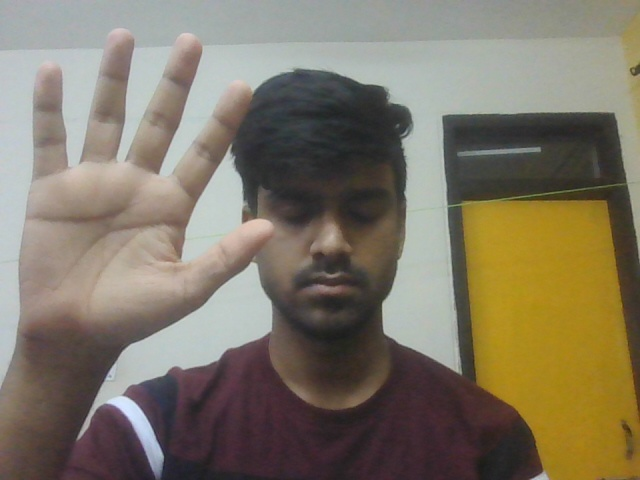hello: (14, 24, 280, 378)
